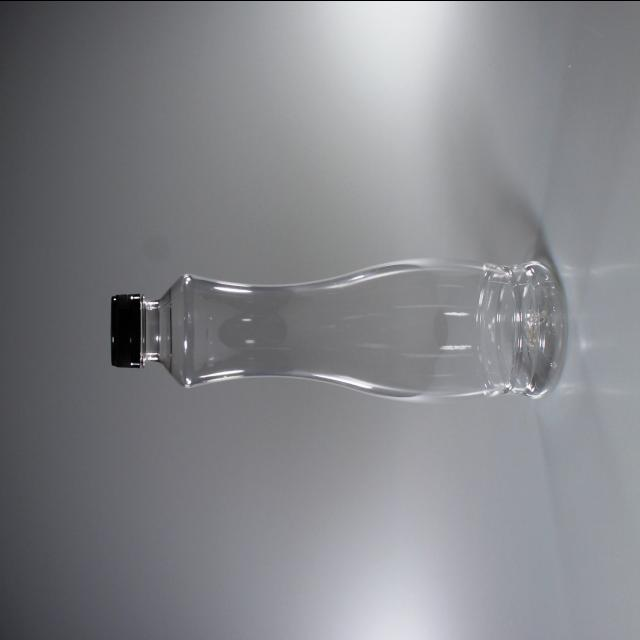bottom: (460, 240, 575, 401)
cap: (93, 273, 159, 376)
